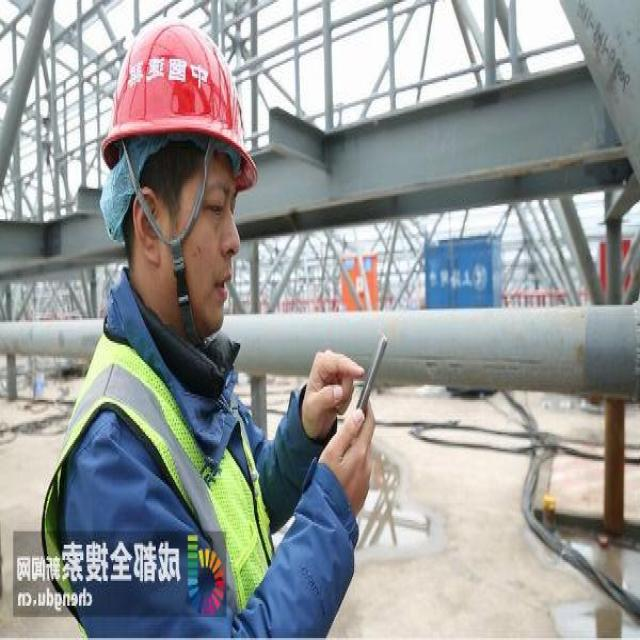Reflective-Jacket: (45, 330, 277, 636)
Safety-Helmet: (99, 17, 259, 189)
